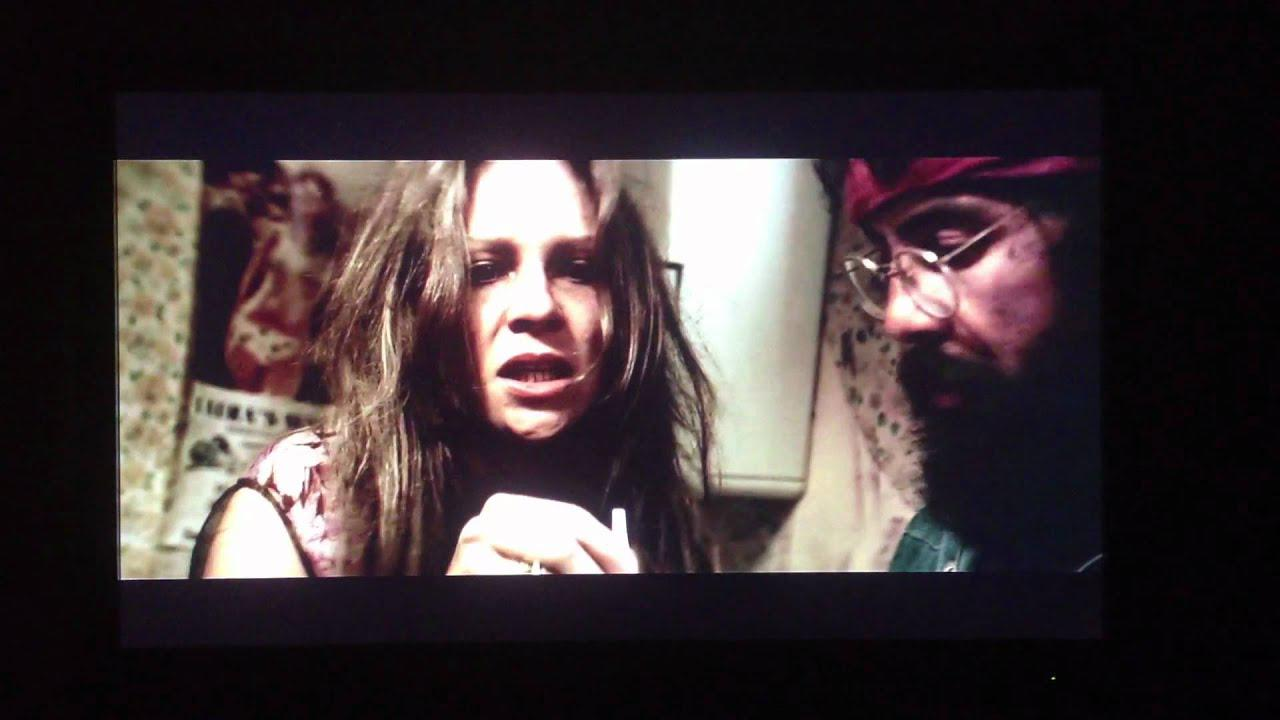smoking: (600, 501, 647, 588)
